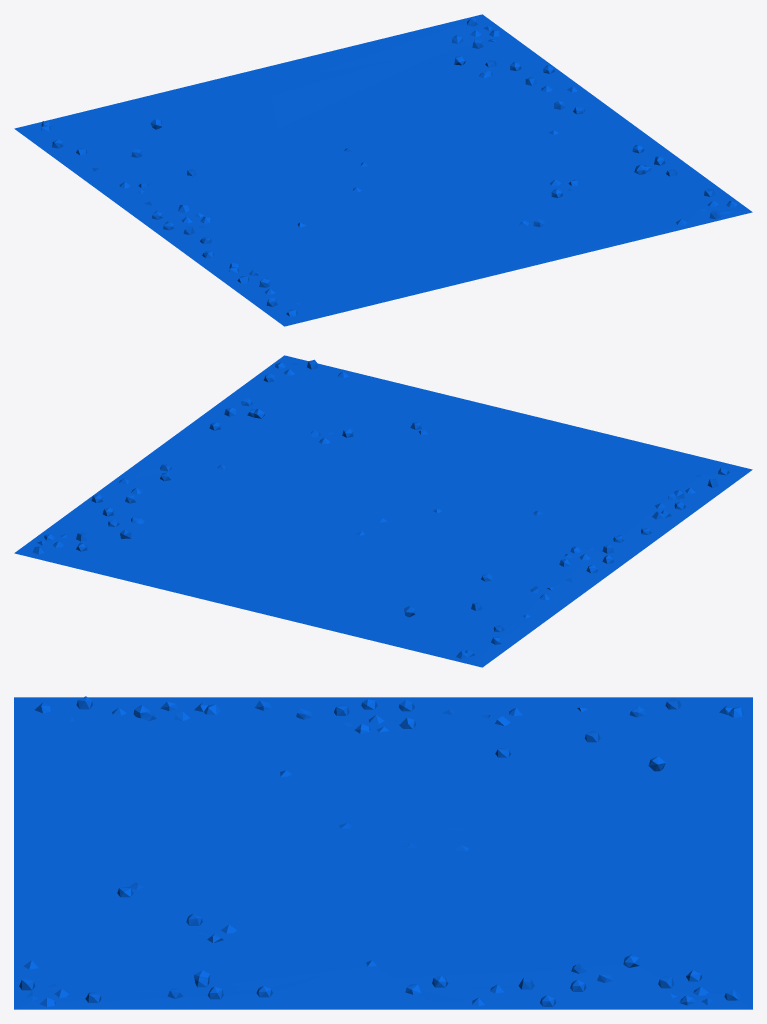
File: PlaneFloor.fbx
The picture shows the model from 3 angles, top to bottom: view 1: azimuth 30°, elevation 25°; view 2: azimuth 150°, elevation 25°; view 3: azimuth 270°, elevation 25°; orthographic projection. The views are drawn at different scales.
Parts seen in each view (by area): view 1: Icosphere; view 2: Icosphere; view 3: Icosphere.
Part boxes in pixels (x1,y1,x2,y2): Icosphere: (14,14,752,326); Icosphere: (14,355,752,667); Icosphere: (14,696,752,1009).
Bounding box in the file's own units: 100 × 1.9 × 100.
